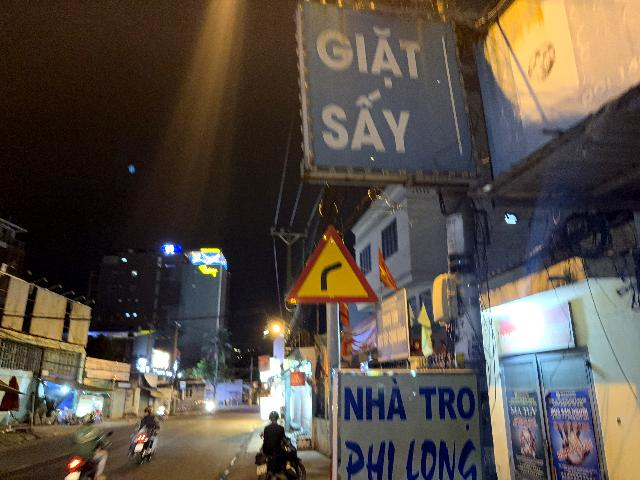cho-ngoat-nguy-hiem-ben-phai: (286, 223, 379, 304)
